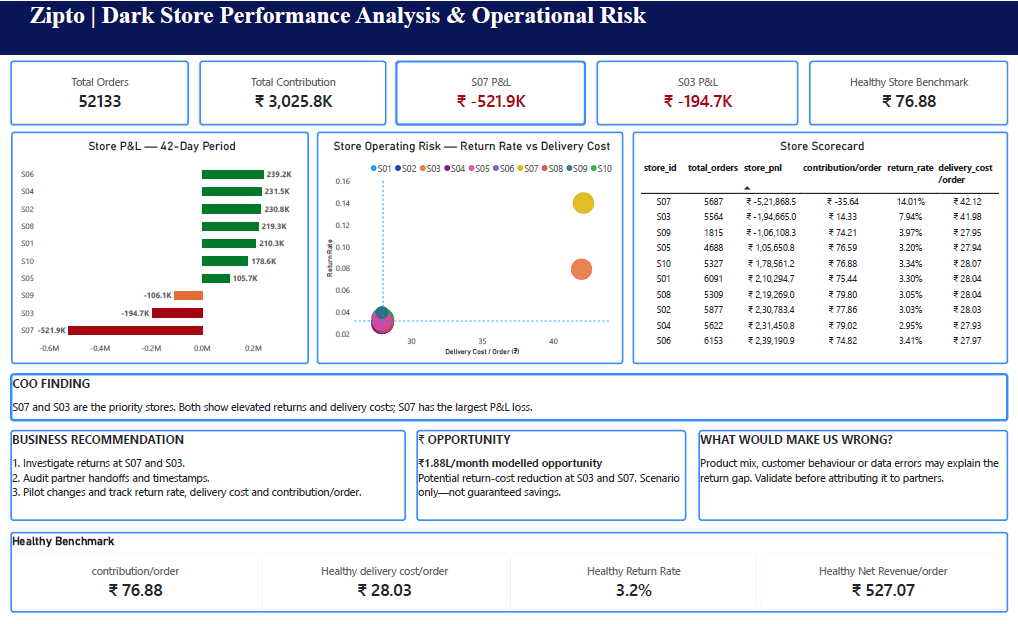

The dashboard page shown, as its layout file describes it:
{"tool":"powerbi","page":{"name":"Dashboard_1","canvas":[2300,1390],"ordinal":0},"visuals":[{"type":"cardVisual","title":"Total Orders","fields":{"Data":["Sum(Store Performance.total_orders)"]},"box":[23.3,133.3,403.3,146.7],"z":0},{"type":"cardVisual","title":"Total Contribution","fields":{"Data":["Sum(Store Performance.contribution)"]},"box":[450,133.3,423.3,146.7],"z":1000},{"type":"cardVisual","title":"S07 P&L","fields":{"Data":["Sum(Store Performance.store_pnl)"]},"box":[893.3,133.3,430,146.7],"z":2000},{"type":"cardVisual","title":"S03 P&L","fields":{"Data":["Sum(Store Performance.store_pnl)"]},"box":[1346.7,133.3,456.7,146.7],"z":3000},{"type":"clusteredBarChart","title":"Store P&L — 42-Day Period","fields":{"Category":["Store Performance.store_id"],"Y":["Sum(Store Performance.store_pnl)"]},"box":[25.3,293.2,672.3,525.7],"z":4000},{"type":"scatterChart","title":"Store Operating Risk — Return Rate vs Delivery Cost","fields":{"X":["Store Performance.delivery_cost_per_order"],"Y":["Store Performance.return_rate"],"Size":["Sum(Store Performance.total_orders)"],"Series":["Store Performance.store_id"]},"box":[715.2,293.2,692.5,525.7],"z":5000},{"type":"tableEx","title":" Store Scorecard","fields":{"Values":["Store Performance.store_id","Sum(Store Performance.total_orders)","Sum(Store Performance.store_pnl)","Store Performance.contribution_per_order","Store Performance.return_rate","Store Performance.delivery_cost_per_order"]},"box":[1427.9,293.2,849.2,525.7],"z":6000},{"type":"textbox","box":[22.7,839.1,2254.3,108.7],"z":7000},{"type":"cardVisual","title":"Healthy Store Benchmark","fields":{"Data":["Store Performance.Healthy Store Benchmark"]},"box":[1826.7,133.3,450,146.7],"z":8000},{"type":"textbox","box":[0,0,2300,120],"z":9000},{"type":"cardVisual","title":"Healthy Benchmark","fields":{"Data":["Store Performance.contribution/order","Store Performance.Healthy delivery cost/order","Store Performance.Healthy Return Rate","Store Performance.Healthy Net Revenue"]},"box":[23.3,1196.7,2253.3,183.3],"z":10000},{"type":"textbox","box":[23.3,966.7,893.3,206.7],"z":11000},{"type":"textbox","box":[940,966.7,610,206.7],"z":12000},{"type":"textbox","box":[1576.7,966.7,700,206.7],"z":13000}]}

Visuals, with their boxes in screenshot pixels (x1, y1, x2, y2), scaled from the page's 2300x1390 canvas onto the 1018x624 screenshot:
"Total Orders" cardVisual: locate(10, 60, 189, 126)
"Total Contribution" cardVisual: locate(199, 60, 387, 126)
"S07 P&L" cardVisual: locate(395, 60, 586, 126)
"S03 P&L" cardVisual: locate(596, 60, 798, 126)
"Store P&L — 42-Day Period" clusteredBarChart: locate(11, 132, 309, 368)
"Store Operating Risk — Return Rate vs Delivery Cost" scatterChart: locate(317, 132, 623, 368)
" Store Scorecard" tableEx: locate(632, 132, 1008, 368)
textbox: locate(10, 377, 1008, 425)
"Healthy Store Benchmark" cardVisual: locate(809, 60, 1008, 126)
textbox: locate(0, 0, 1017, 54)
"Healthy Benchmark" cardVisual: locate(10, 537, 1008, 620)
textbox: locate(10, 434, 406, 527)
textbox: locate(416, 434, 686, 527)
textbox: locate(698, 434, 1008, 527)
